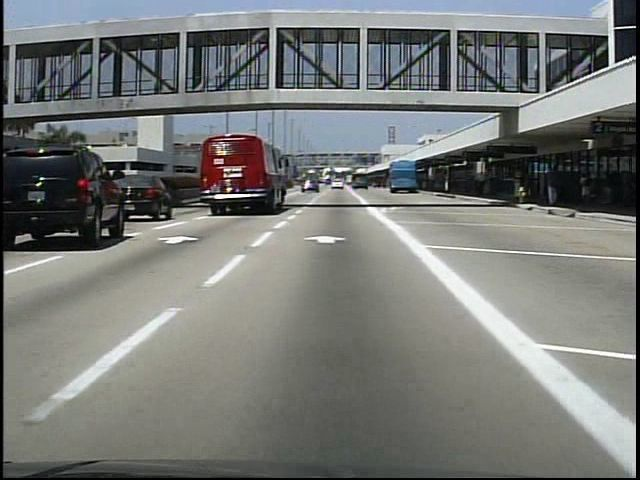person: (577, 169, 595, 212), (474, 169, 485, 193)
